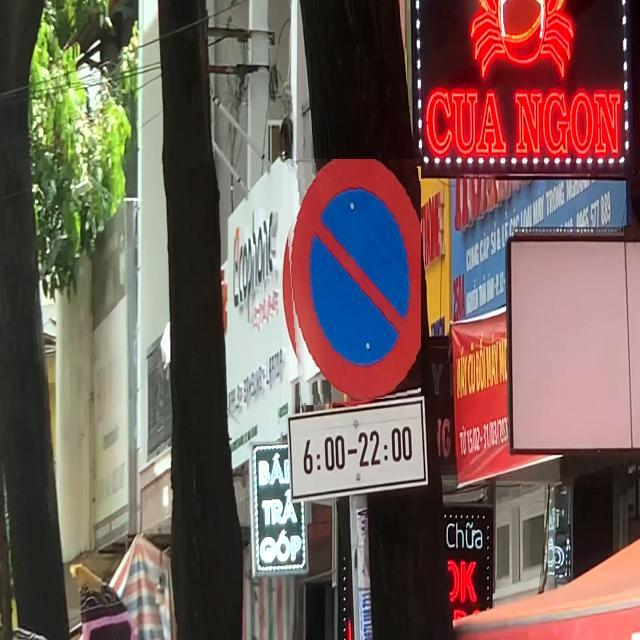P-131a: (282, 159, 421, 406)
